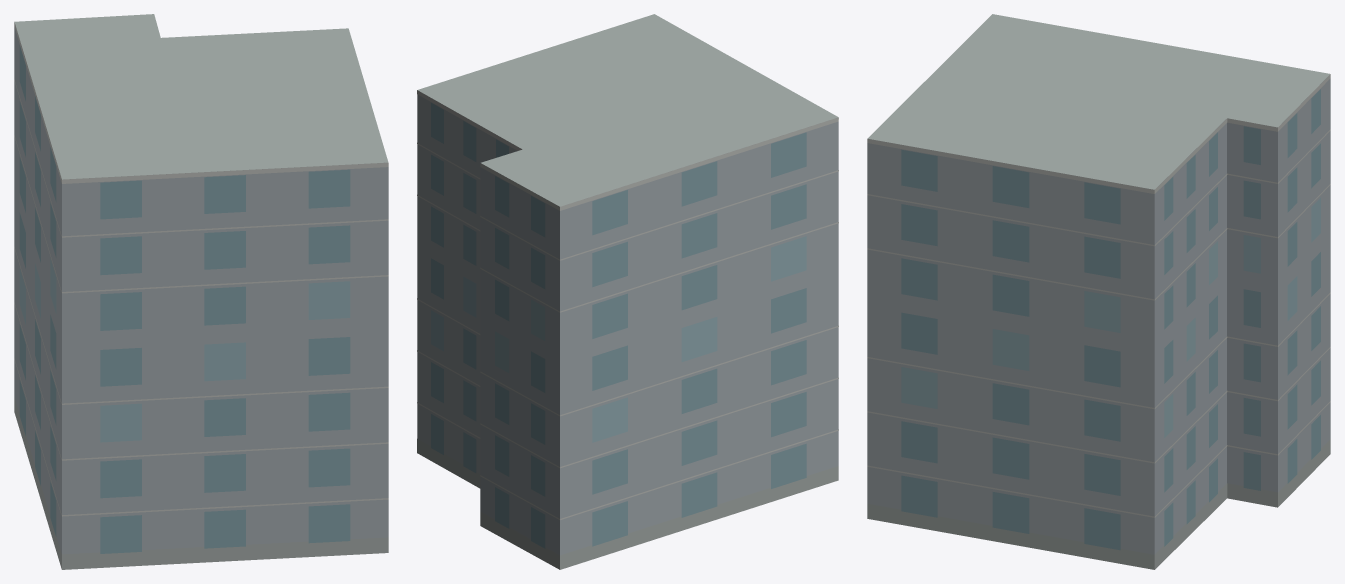
File: survey-upis-32940808.glb
3 views of the same model, side by side, from view 1: azimuth 30°, elevation 25°; view 2: azimuth 150°, elevation 25°; view 3: azimuth 270°, elevation 25° (orthographic). The views are drawn at different scales.
Parts seen in each view (by area): view 1: survey-upis-32940808.tmp; view 2: survey-upis-32940808.tmp; view 3: survey-upis-32940808.tmp.
Boxes of the visible parts, x1,y1,x2,y2 form: survey-upis-32940808.tmp: (14,14,388,569); survey-upis-32940808.tmp: (417,14,838,569); survey-upis-32940808.tmp: (867,14,1330,569).
Size of the model in its own units: 21.05 by 21.2 by 23.43.
